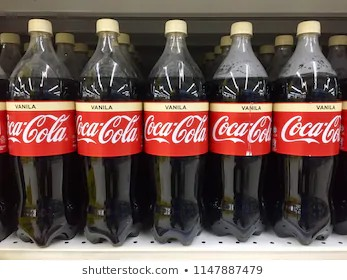coke-bottle-2l: (267, 18, 335, 246), (11, 18, 80, 240), (79, 16, 145, 245), (146, 16, 210, 245), (212, 18, 267, 244)
